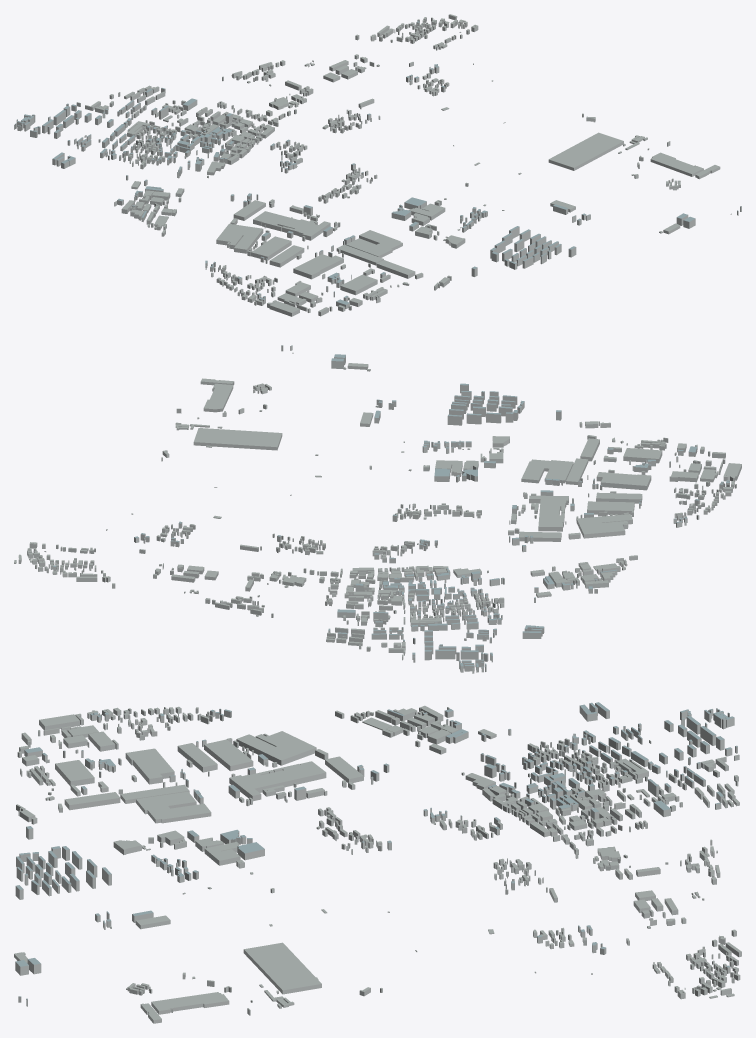
The model's file is far.glb.
3 renders of one model, top to bottom at view 1: azimuth 30°, elevation 25°; view 2: azimuth 150°, elevation 25°; view 3: azimuth 270°, elevation 25°, orthographic. The views are drawn at different scales.
Bounding box in the file's own units: 2156 × 36.1 × 2112.
